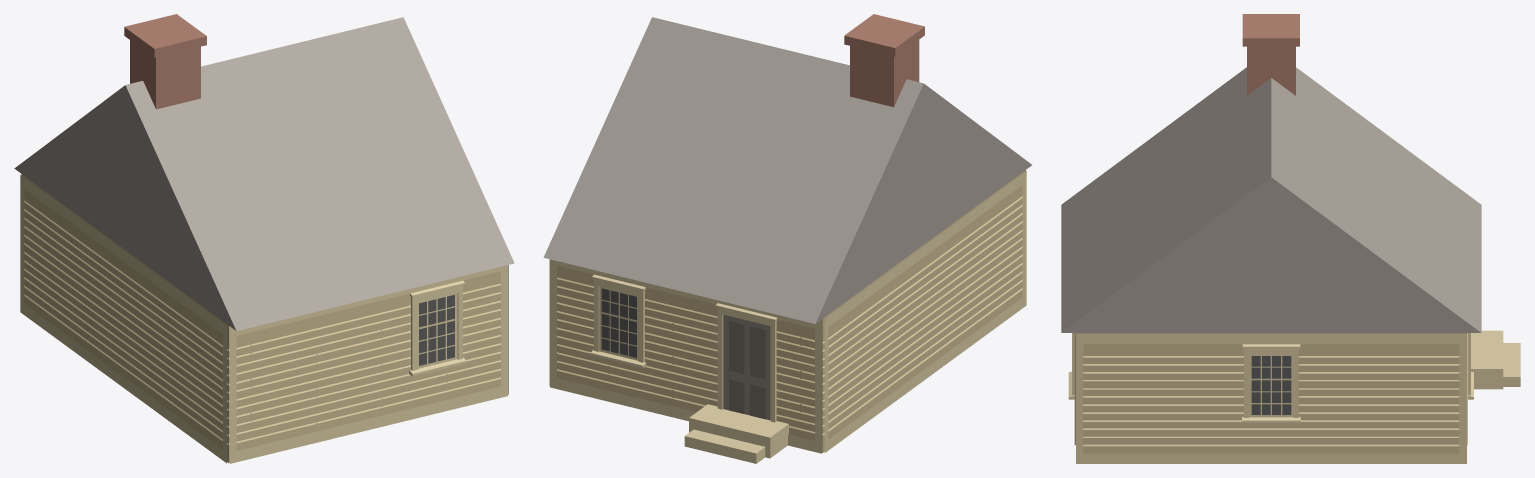
The model's file is recon_1835_blk_washington_market_d3_10__inferred_1835.glb.
3 views of the same model, side by side, from view 1: azimuth 30°, elevation 25°; view 2: azimuth 150°, elevation 25°; view 3: azimuth 270°, elevation 25° (orthographic). The views are drawn at different scales.
Visible parts, largest first — view 1: recon_1835_blk_washington_market_d3_10__inferred_1835; view 2: recon_1835_blk_washington_market_d3_10__inferred_1835; view 3: recon_1835_blk_washington_market_d3_10__inferred_1835.
Part boxes in pixels (bbox=[...]): recon_1835_blk_washington_market_d3_10__inferred_1835: bbox=[14, 14, 514, 463]; recon_1835_blk_washington_market_d3_10__inferred_1835: bbox=[543, 14, 1031, 463]; recon_1835_blk_washington_market_d3_10__inferred_1835: bbox=[1061, 14, 1520, 463].
Size of the model in its own units: 5.35 by 6.18 by 7.86.
